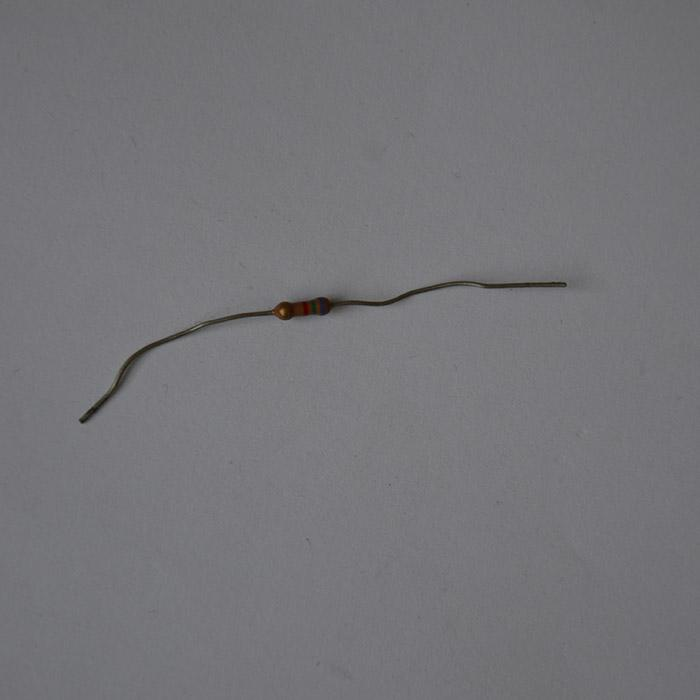resistor: (271, 296, 330, 319)
